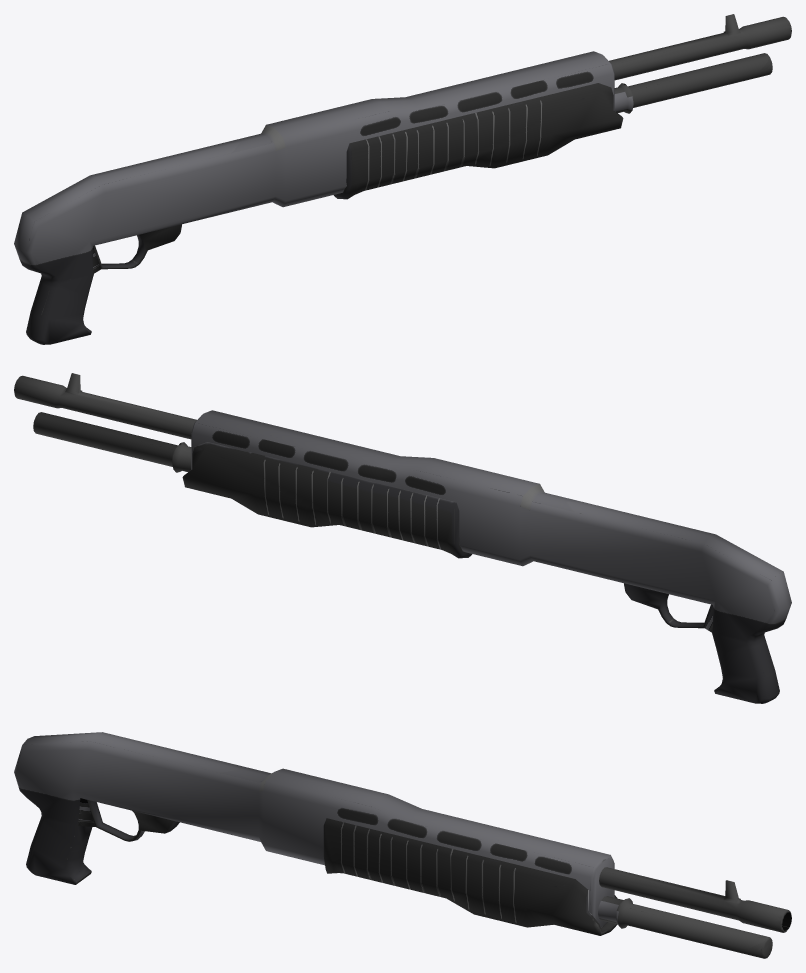
The model's file is SPAS-12.obj.
3 views of the same model, one above another, from view 1: azimuth 30°, elevation 25°; view 2: azimuth 150°, elevation 25°; view 3: azimuth 330°, elevation 25° (orthographic).
Parts seen in each view (by area): view 1: Cube.001; view 2: Cube.001; view 3: Cube.001.
Part boxes in pixels (<box>): Cube.001: <box>14,14,791,344</box>; Cube.001: <box>14,373,791,703</box>; Cube.001: <box>14,732,791,958</box>.
Size of the model in its own units: 25.37 by 4.96 by 1.57.
